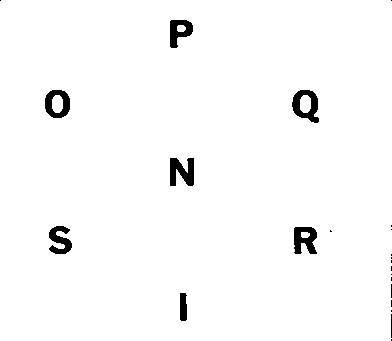I: (173, 287, 195, 326)
